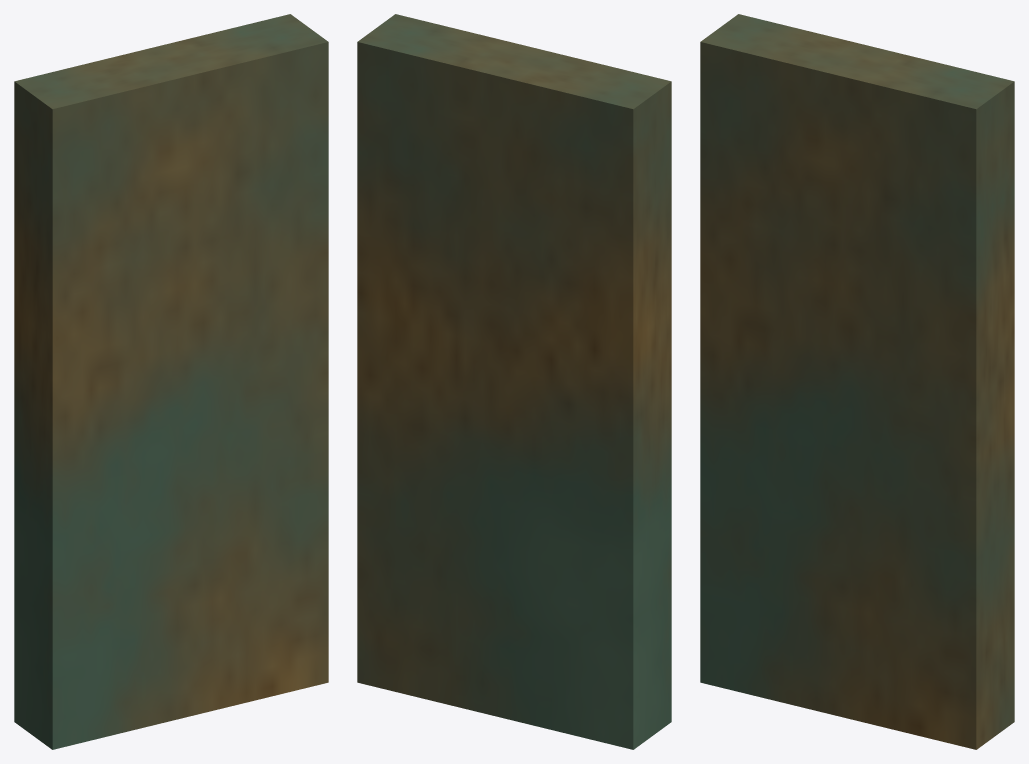
Rendered from Frame protective strap__n8.glb.
The picture shows the model from 3 angles, left to right: view 1: azimuth 30°, elevation 25°; view 2: azimuth 150°, elevation 25°; view 3: azimuth 330°, elevation 25°; orthographic projection.
Parts seen in each view (by area): view 1: Frame protective strap; view 2: Frame protective strap; view 3: Frame protective strap.
Part boxes in pixels (x1,y1,x2,y2): Frame protective strap: (14, 14, 328, 749); Frame protective strap: (357, 14, 671, 749); Frame protective strap: (700, 14, 1014, 749).
Bounding box in the file's own units: 0.23 × 0.51 × 0.055.
Materials: 1 (1 with a texture image).
